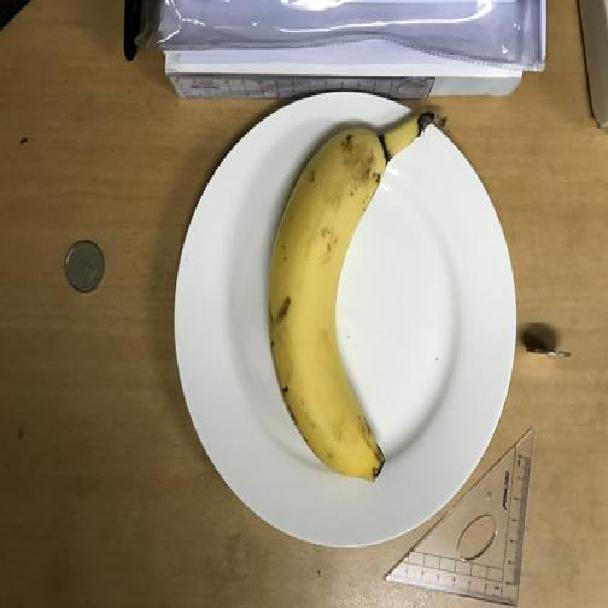banana: (264, 121, 410, 483)
